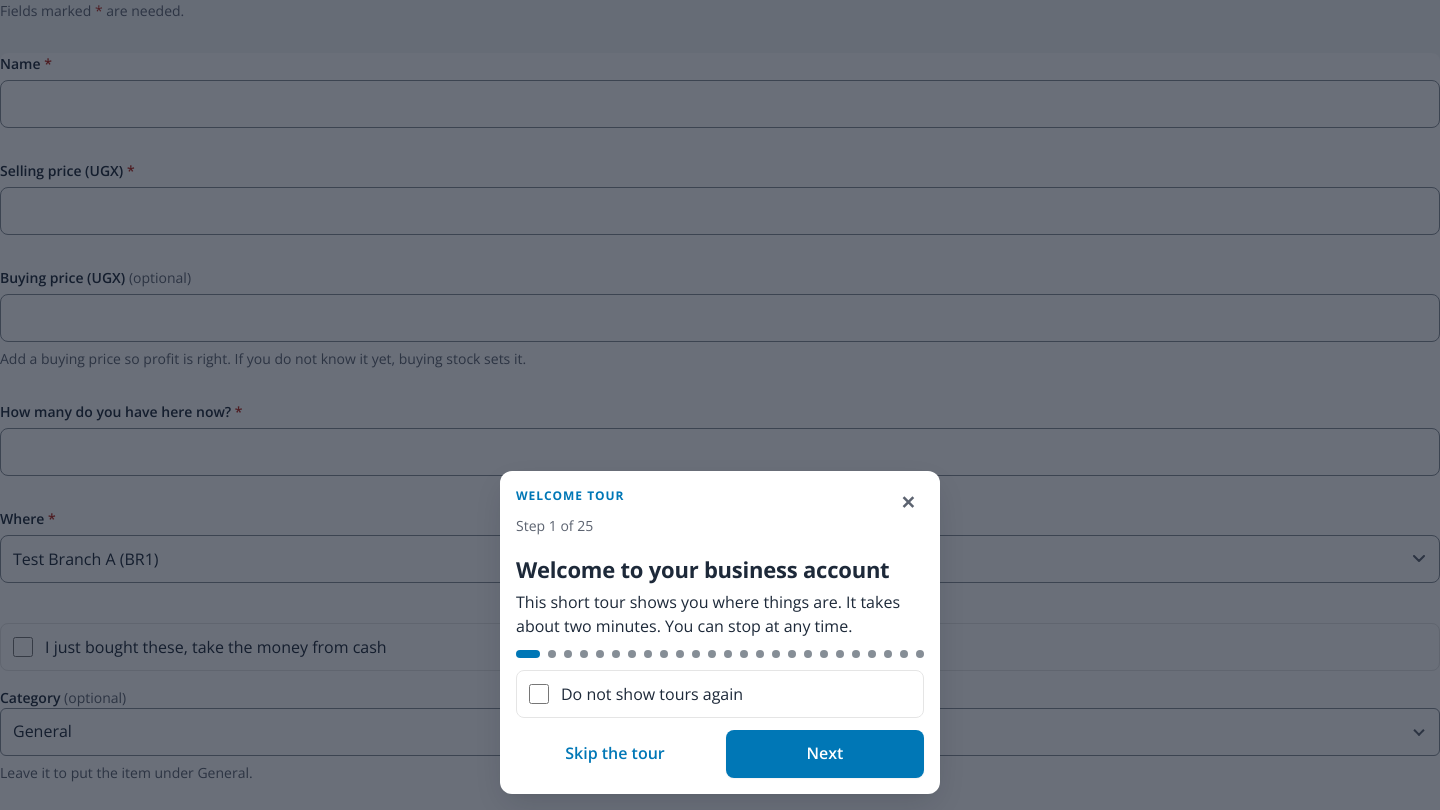
Test: with the tour on (issue #642) › opens with no error when the tour starts and is closed, and still shows it once the person leaves Name
Check: the text "Type what the item is." is not shown
Click the button named "Close the tour". click: click(908, 503)
box: [884,479,932,527]
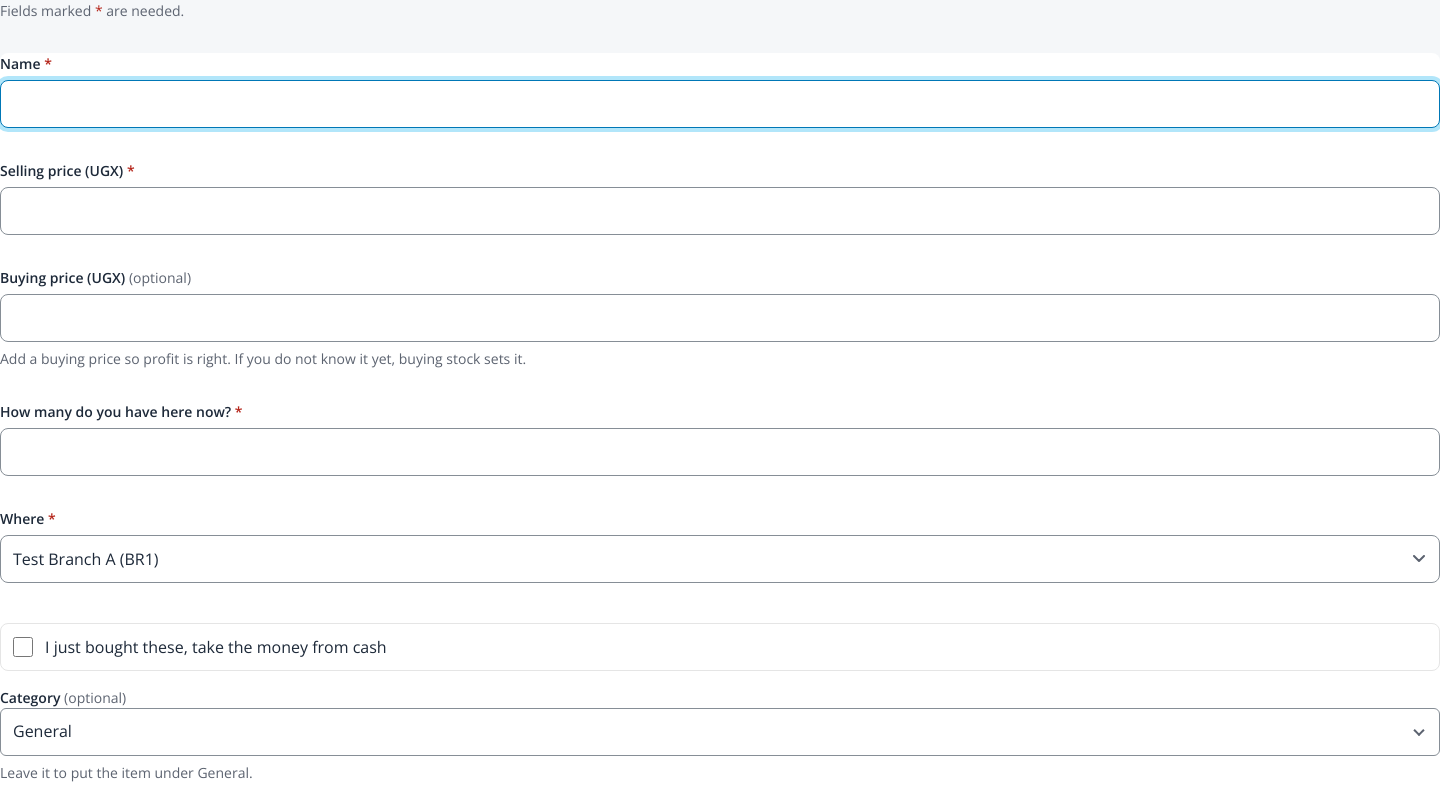
Check: the text "Type what the item is." is not shown
Leave the field labelled "Name *", box [0,80,1439,128]
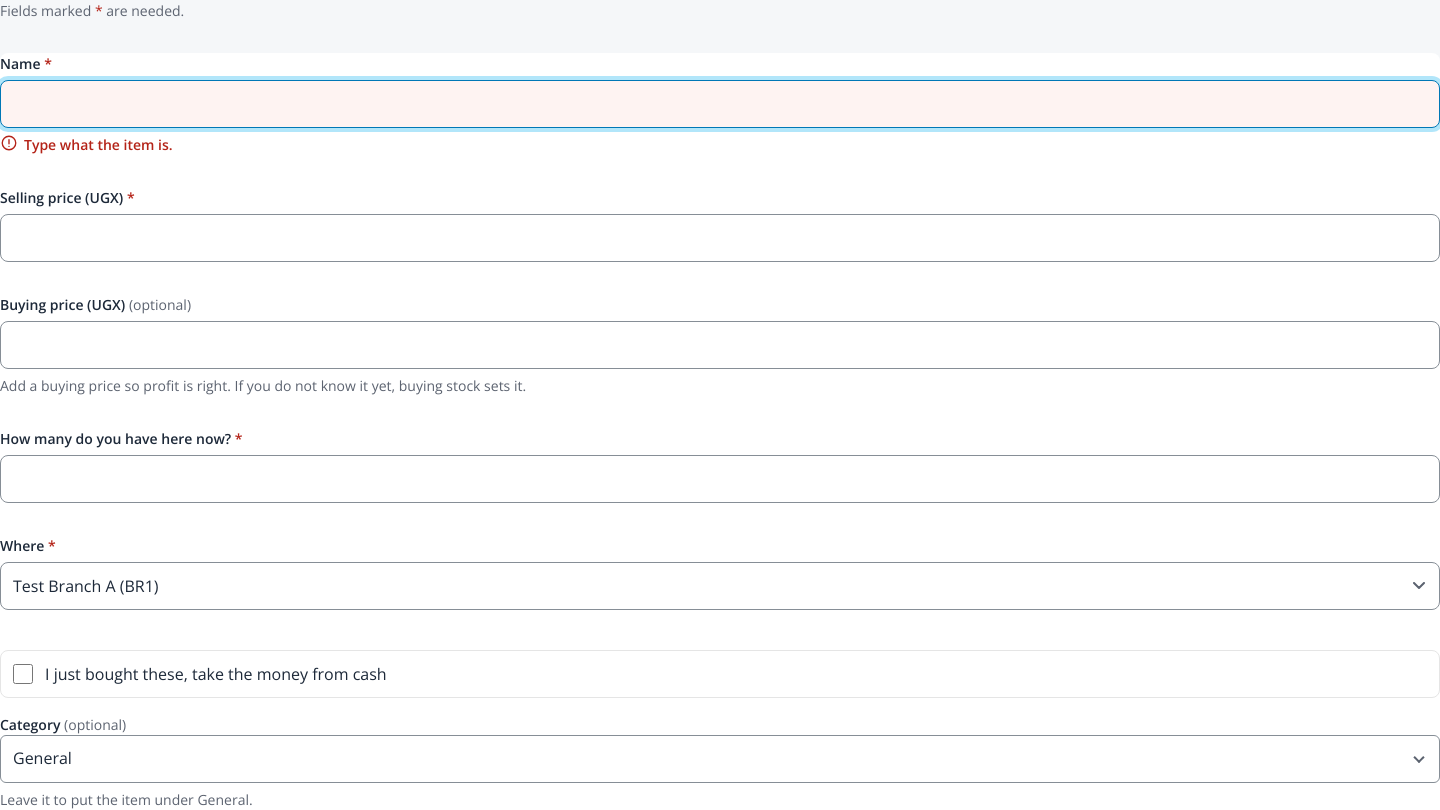
Check: the text "Type what the item is." is shown, box [0,134,173,154]
